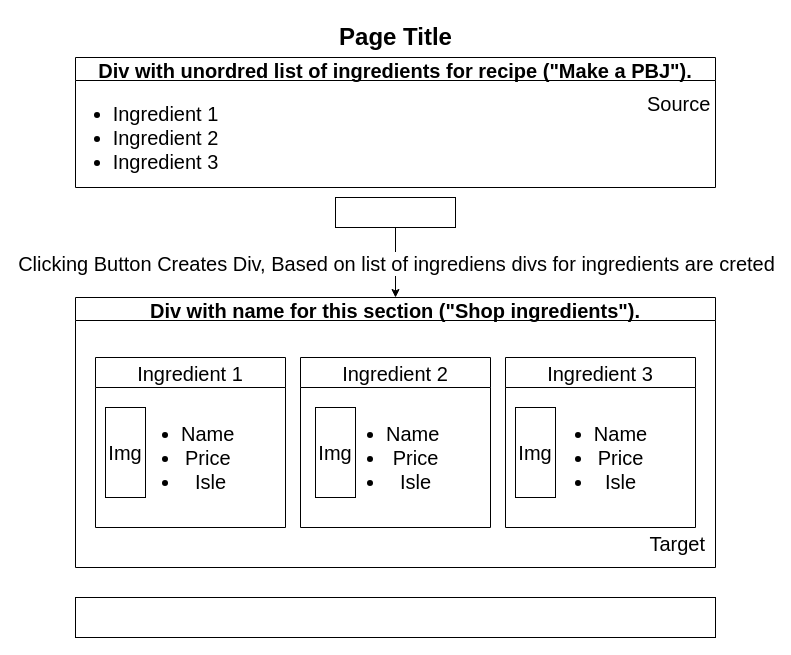
This 791x655 diagram has some shape labels left out. The centre of each missing label's shape, as x and y in pixels:
Button: [395,212]
Footer: [395,617]
